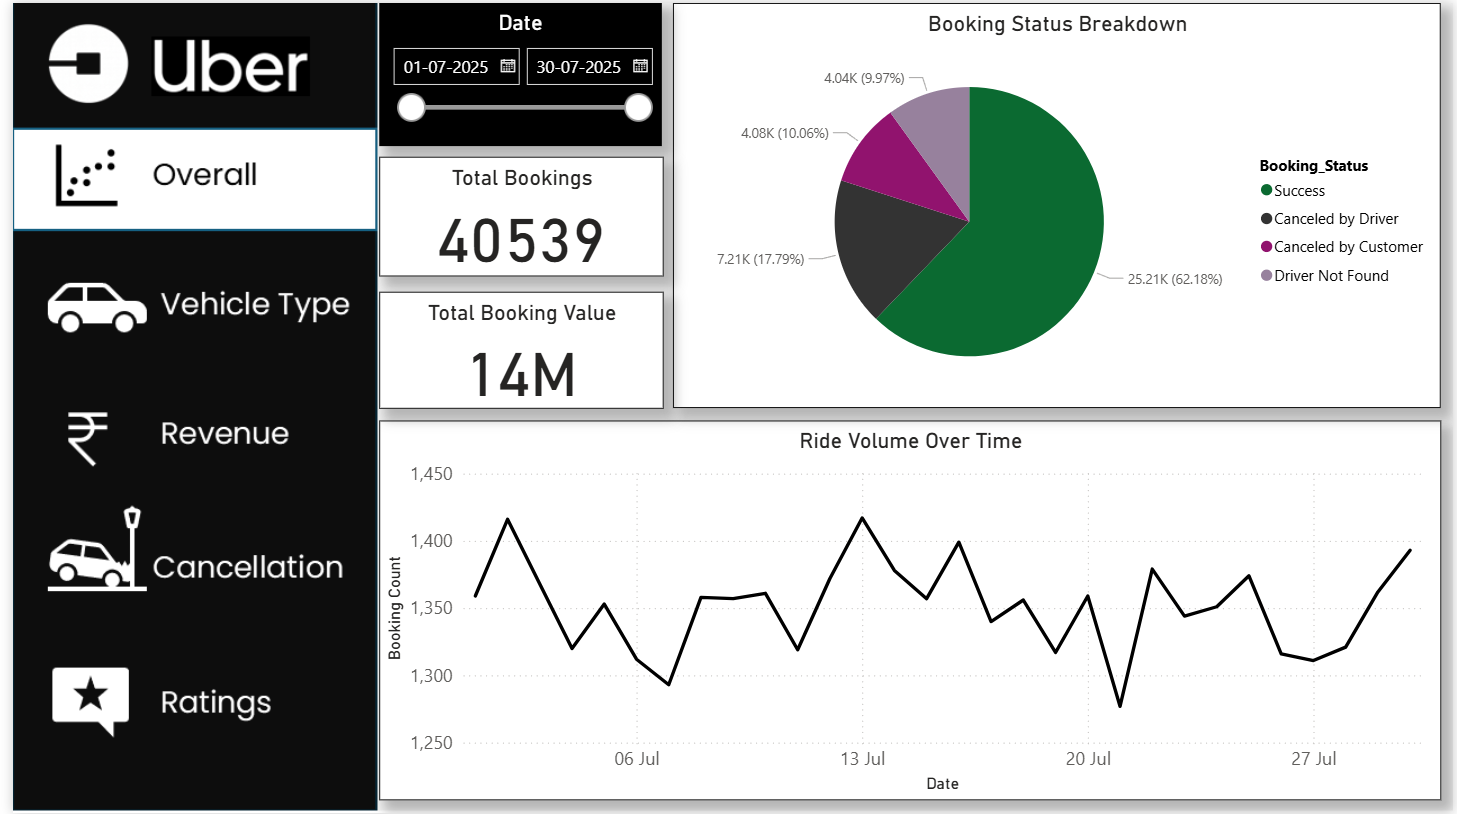

This screenshot's page, from the dashboard's own definition file:
{"tool":"powerbi","page":{"name":"Overall","canvas":[1280,720],"ordinal":0},"visuals":[{"type":"actionButton","box":[0,227.6,323.2,91.5],"z":0},{"type":"actionButton","box":[1,339.8,323.2,91.5],"z":1000},{"type":"actionButton","box":[0,449,323.2,91.5],"z":2000},{"type":"actionButton","box":[0,579.9,323.2,91.5],"z":3000},{"type":"lineChart","title":"Ride Volume Over Time","fields":{"Category":["July.Date"],"Y":["CountNonNull(July.Booking_ID)"]},"box":[325,371.2,943.8,337.5],"z":4000},{"type":"pieChart","title":" Booking Status Breakdown","fields":{"Y":["CountNonNull(July.Booking_Status)"],"Series":["July.Booking_Status"],"Category":["July.Booking_Status"]},"box":[586.2,0,682.5,360],"z":5000},{"type":"slicer","title":"Date","fields":{"Values":["July.Date"]},"box":[325,0,251.2,127.5],"z":6000},{"type":"card","title":"Total Bookings","fields":{"Values":["CountNonNull(July.Booking_ID)"]},"box":[325,136.2,252.5,106.2],"z":7000},{"type":"card","title":"Total Booking Value","fields":{"Values":["Sum(July.Booking_Value)"]},"box":[325,256.2,252.5,103.8],"z":8000}]}

Visuals, with their boxes in screenshot pixels (x1, y1, x2, y2), scaled from the page's 1280x720 canvas onto the 1457x814 screenshot:
actionButton: (left=0, top=257, right=368, bottom=361)
actionButton: (left=1, top=384, right=369, bottom=488)
actionButton: (left=0, top=508, right=368, bottom=611)
actionButton: (left=0, top=656, right=368, bottom=759)
"Ride Volume Over Time" lineChart: (left=370, top=420, right=1444, bottom=801)
" Booking Status Breakdown" pieChart: (left=667, top=0, right=1444, bottom=407)
"Date" slicer: (left=370, top=0, right=656, bottom=144)
"Total Bookings" card: (left=370, top=154, right=657, bottom=274)
"Total Booking Value" card: (left=370, top=290, right=657, bottom=407)
